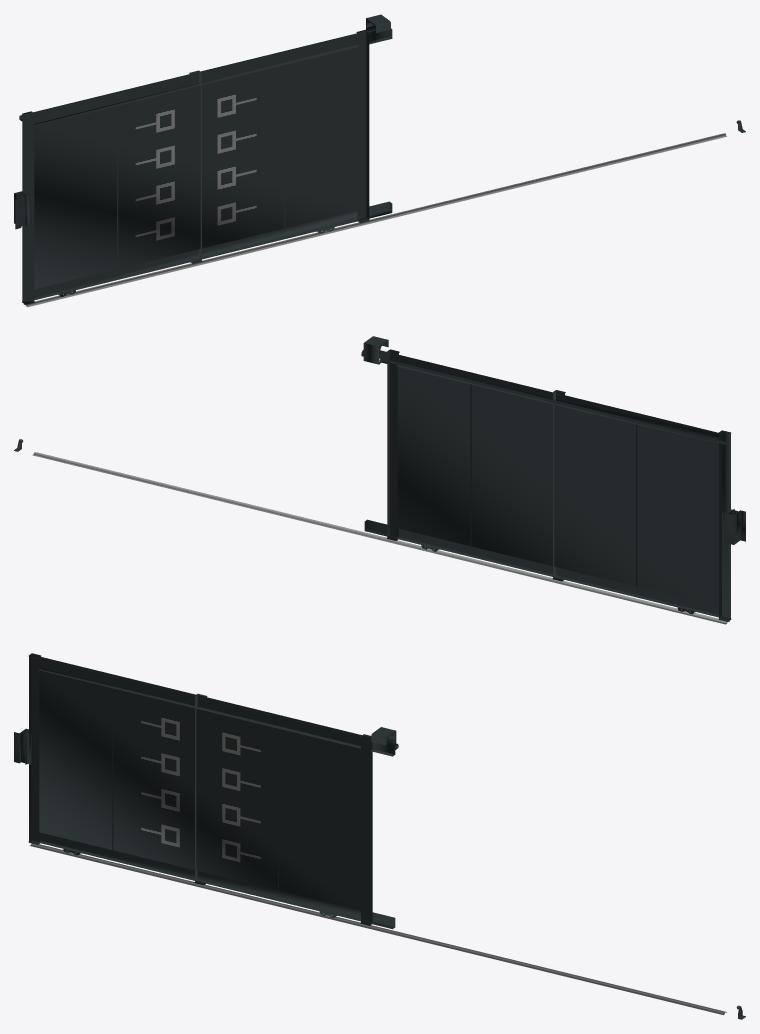
3 views of the same model, one above another, from view 1: azimuth 30°, elevation 25°; view 2: azimuth 150°, elevation 25°; view 3: azimuth 330°, elevation 25° (orthographic).
Parts seen in each view (by area): view 1: Folha_1, decornox; view 2: Folha_1, decornox; view 3: Folha_1, decornox.
Part boxes in pixels (box(x1,y1,x2,y2)): Folha_1: box(19, 28, 392, 304); decornox: box(14, 14, 745, 307); Folha_1: box(361, 349, 731, 621); decornox: box(14, 336, 745, 624); Folha_1: box(28, 653, 398, 929); decornox: box(14, 727, 745, 1019).
Bounding box in the file's own units: 638 × 166 × 15.07.
Materials: 1 (1 with a texture image).
